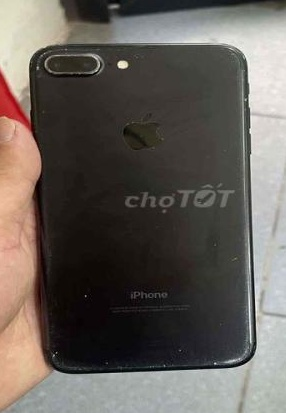scratch: (26, 41, 152, 78), (111, 109, 169, 154), (234, 270, 255, 344), (211, 230, 253, 266), (76, 360, 237, 368), (219, 41, 253, 72), (40, 341, 75, 370), (233, 74, 250, 114), (39, 242, 57, 273), (232, 346, 253, 360), (35, 103, 48, 116), (174, 341, 186, 351), (77, 291, 90, 299), (213, 318, 224, 327)
